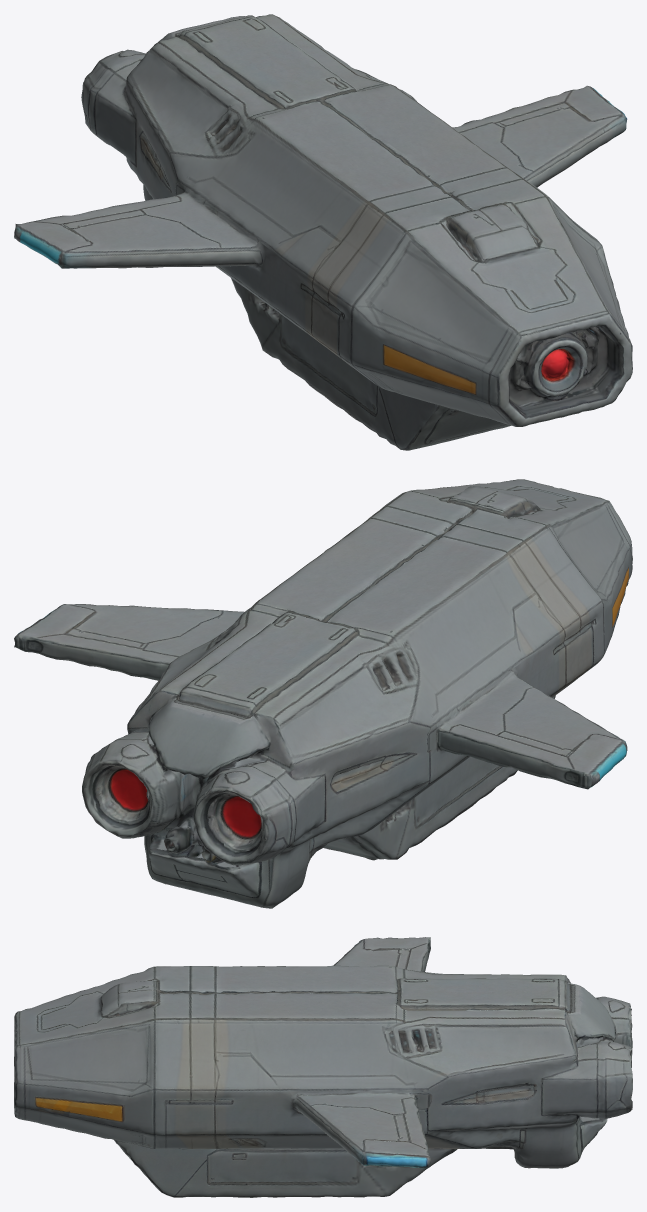
Rendered from BomberDrone.glb.
3 views of the same model, one above another, from view 1: azimuth 30°, elevation 25°; view 2: azimuth 150°, elevation 25°; view 3: azimuth 270°, elevation 25° (orthographic). The views are drawn at different scales.
Visible parts, largest first — view 1: texture_mapping; view 2: texture_mapping; view 3: texture_mapping.
Boxes of the visible parts, x1,y1,x2,y2 form: texture_mapping: (14, 14, 632, 450); texture_mapping: (14, 479, 632, 908); texture_mapping: (14, 937, 632, 1197).
Size of the model in its own units: 0.848 by 0.3271 by 0.9968.
Materials: 1 (1 with a texture image).
